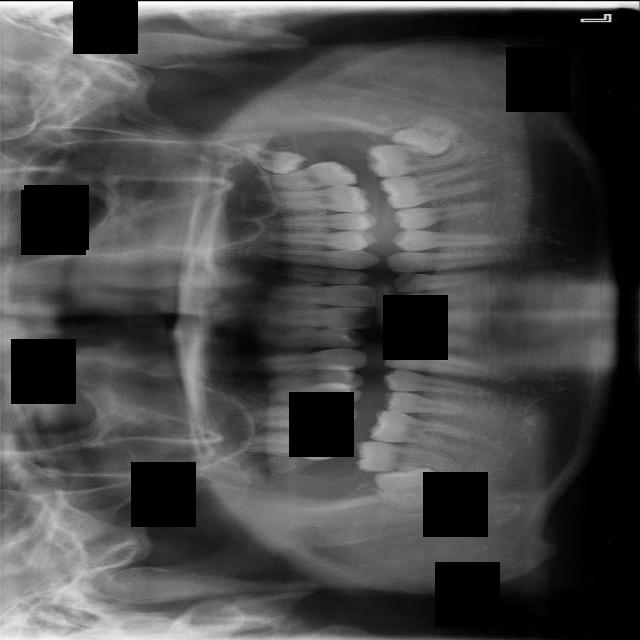73: (589, 34, 602, 40)
BioHorizons Implant: (260, 158, 359, 192)
BioLife Implant: (239, 140, 310, 180)
Biomet 3i Implant: (388, 104, 468, 172)
Blue Sky Bio Implant: (364, 140, 472, 178)
Caries: (238, 432, 347, 460)
Implant: (354, 439, 450, 471)
Keystone Dental Implant: (371, 459, 445, 519)
